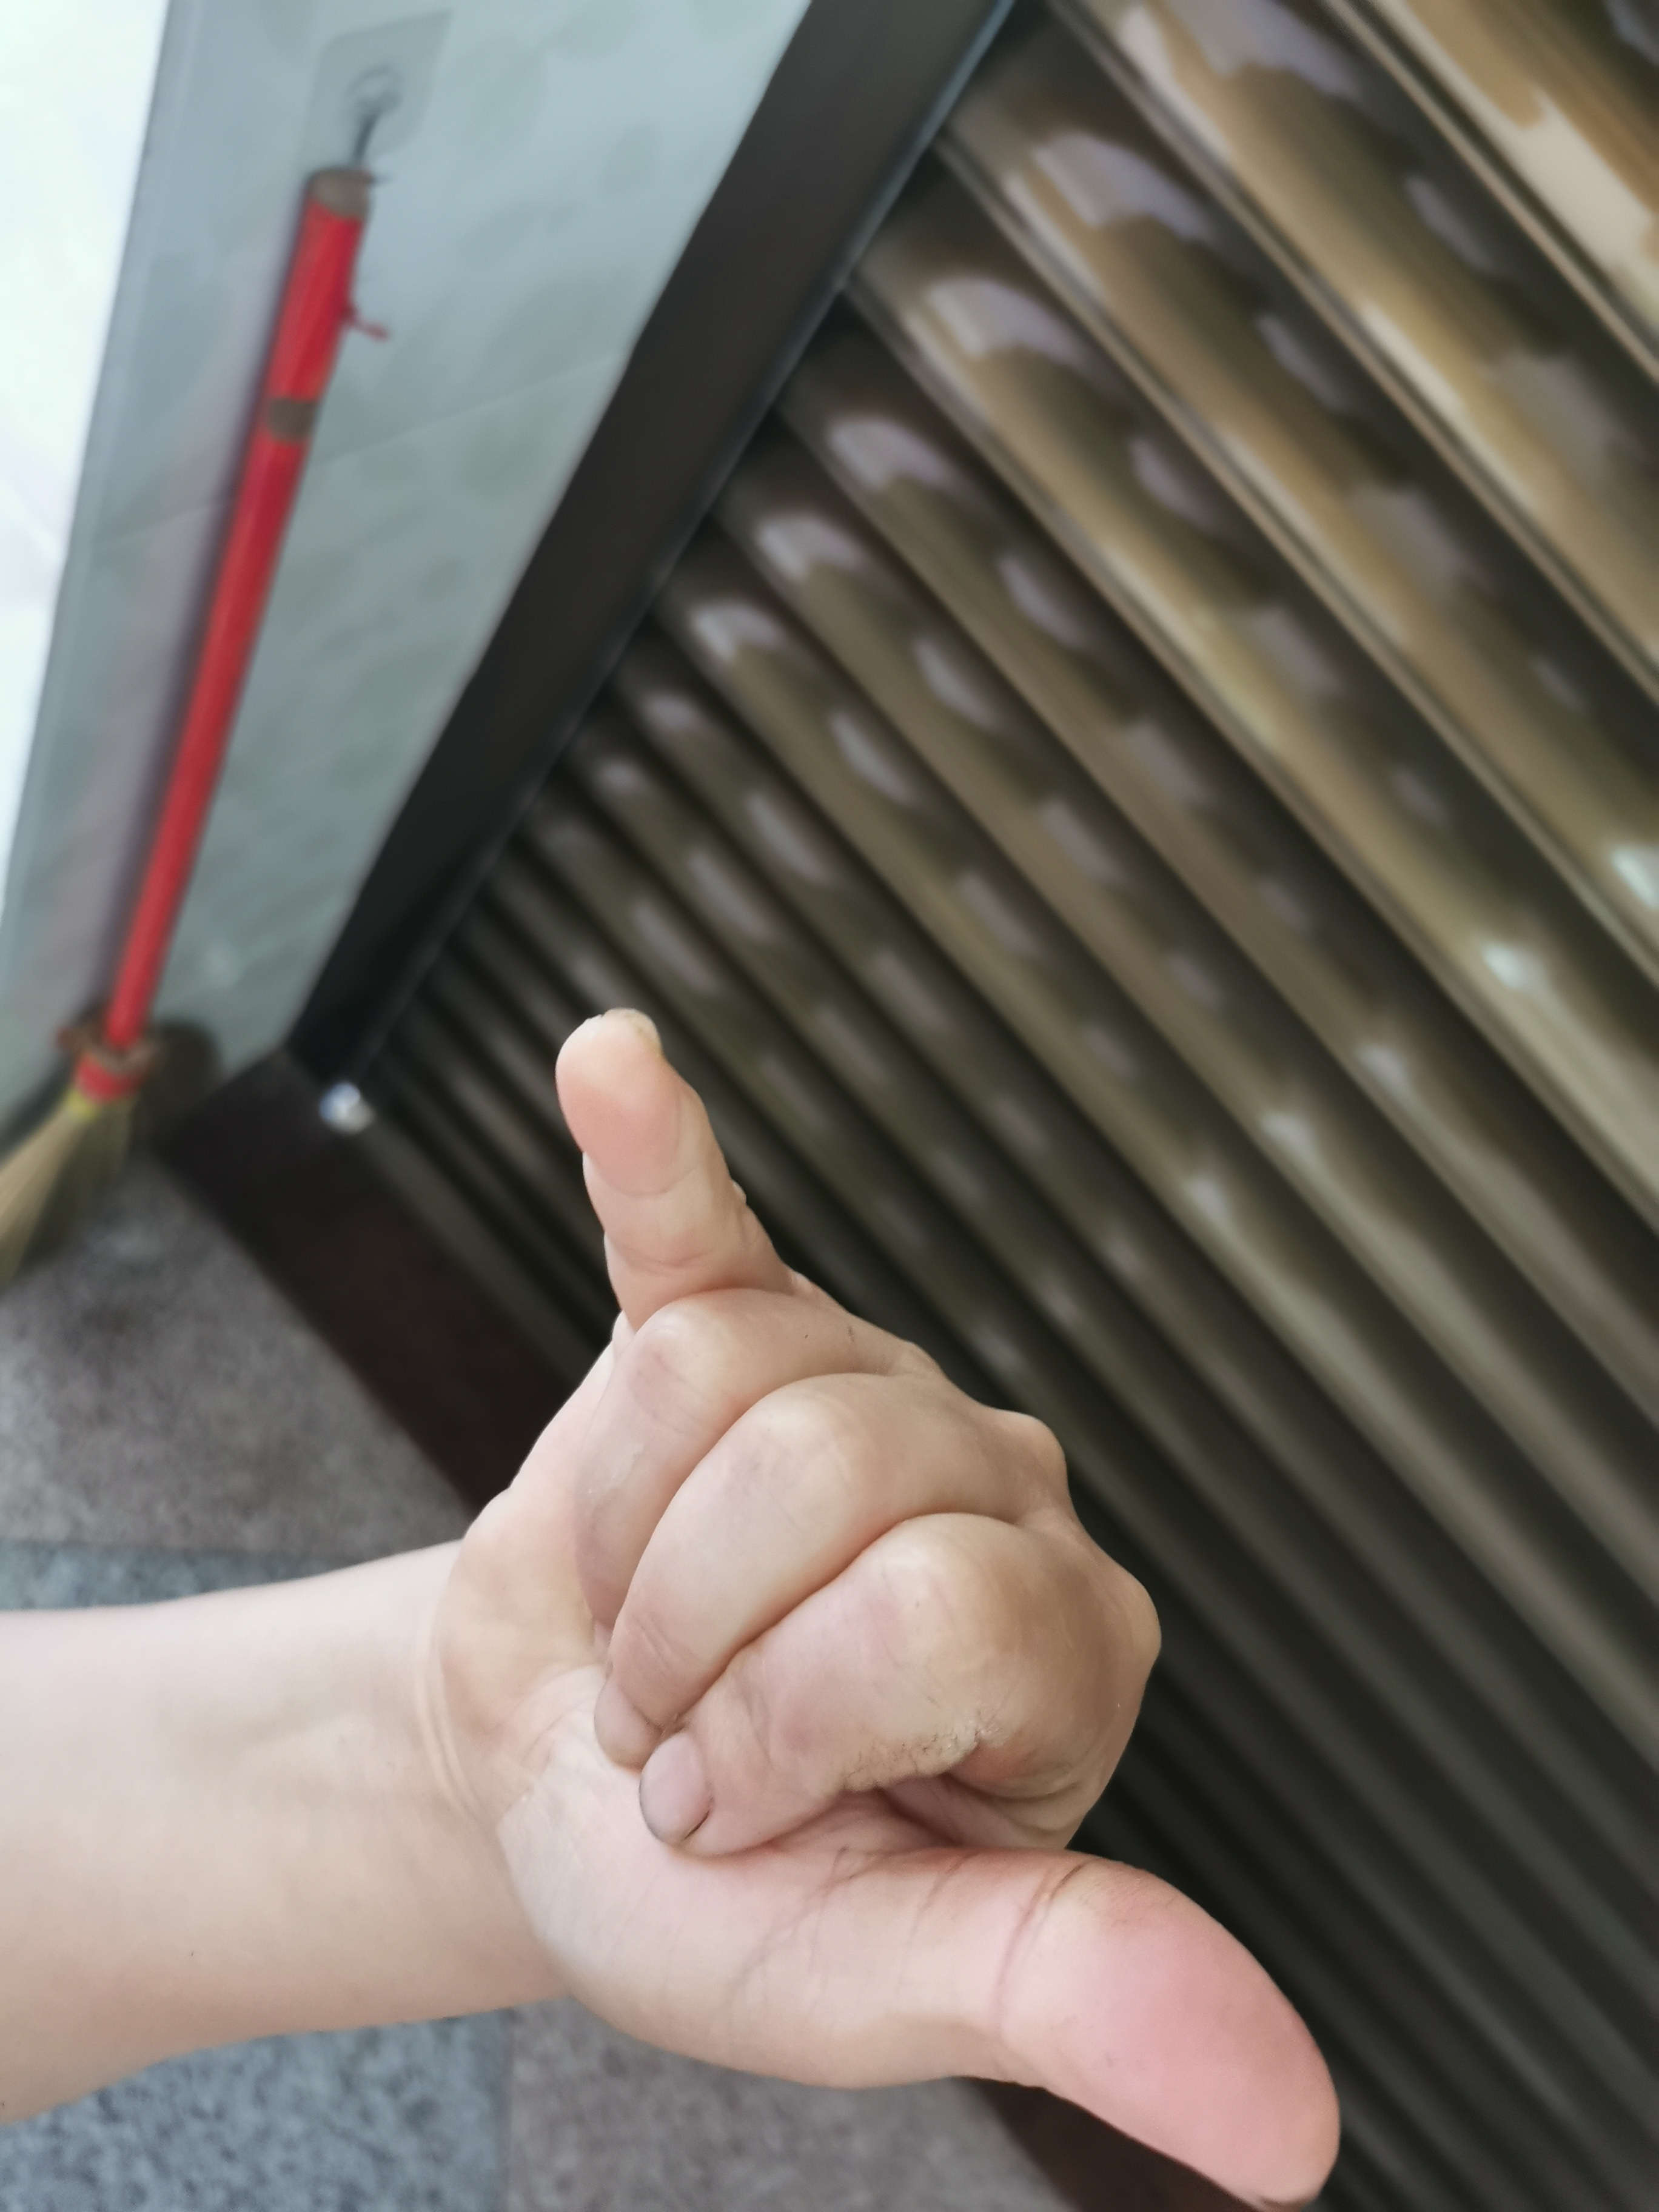clockwise: (448, 989, 1321, 2163)
